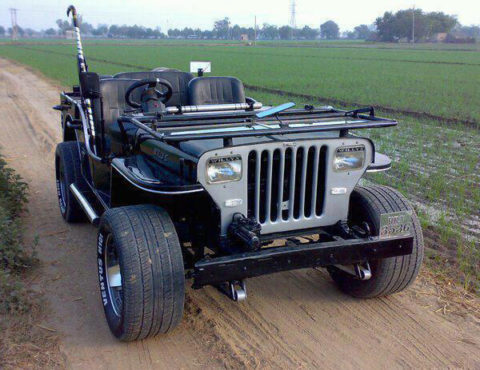Vehicle: (44, 38, 428, 345)
